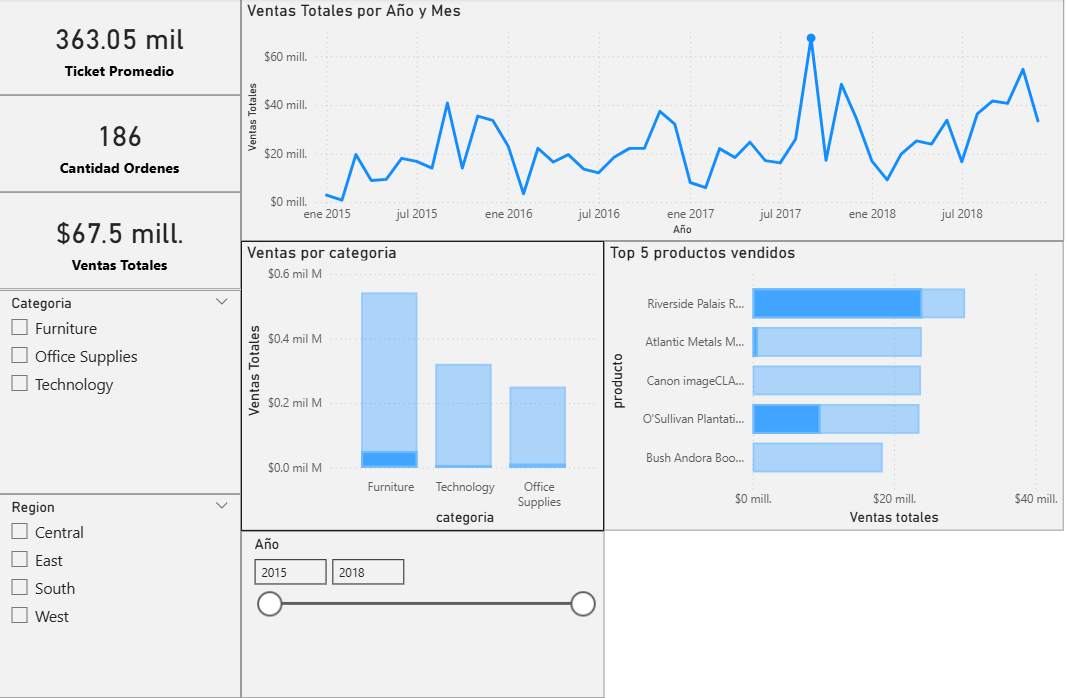

What the dashboard file says about the page in this screenshot:
{"tool":"powerbi","page":{"name":"Página 1","canvas":[1280,720],"ordinal":0},"visuals":[{"type":"card","fields":{"Values":["train.Ticket Promedio"]},"box":[0,0,250,100],"z":0},{"type":"card","fields":{"Values":["train.Ventas Totales"]},"box":[0,200,250,100],"z":1000},{"type":"card","fields":{"Values":["train.Cantidad Ordenes"]},"box":[0,100,250,100],"z":2000},{"type":"lineChart","fields":{"Y":["train.Ventas Totales"],"Category":["train.Order Date.Variación.Jerarquía de fechas.Año","train.Order Date.Variación.Jerarquía de fechas.Mes"]},"box":[250,1,847,249],"z":3000},{"type":"columnChart","title":"Ventas por categoria","fields":{"Category":["train.Category"],"Y":["train.Ventas Totales"]},"box":[250,250,374,298],"z":4000},{"type":"barChart","title":"Top 5 productos vendidos","fields":{"Category":["train.Product Name"],"Y":["train.Ventas Totales"]},"box":[624,250,473,298],"z":5000},{"type":"slicer","fields":{"Values":["train.Order Date.Variación.Jerarquía de fechas.Año"]},"box":[250.3,548.1,373.9,172.1],"z":6000},{"type":"slicer","fields":{"Values":["train.Region"]},"box":[0,510,250,210],"z":7000},{"type":"slicer","fields":{"Values":["train.Category"]},"box":[0,300,250,210],"z":8000}]}

Visuals, with their boxes on the page's 1280x720 design canvas (x1, y1, x2, y2). These are canvas units, not pixel positions in the 1067x698 screenshot, which may show the page scaled, cropped or inside an application window:
card - train.Ticket Promedio: (0, 0, 250, 100)
card - train.Ventas Totales: (0, 200, 250, 300)
card - train.Cantidad Ordenes: (0, 100, 250, 200)
lineChart - train.Ventas Totales x train.Order Date.Variación.Jerarquía de fechas.Año: (250, 1, 1097, 250)
"Ventas por categoria" columnChart: (250, 250, 624, 548)
"Top 5 productos vendidos" barChart: (624, 250, 1097, 548)
slicer - train.Order Date.Variación.Jerarquía de fechas.Año: (250, 548, 624, 720)
slicer - train.Region: (0, 510, 250, 720)
slicer - train.Category: (0, 300, 250, 510)
